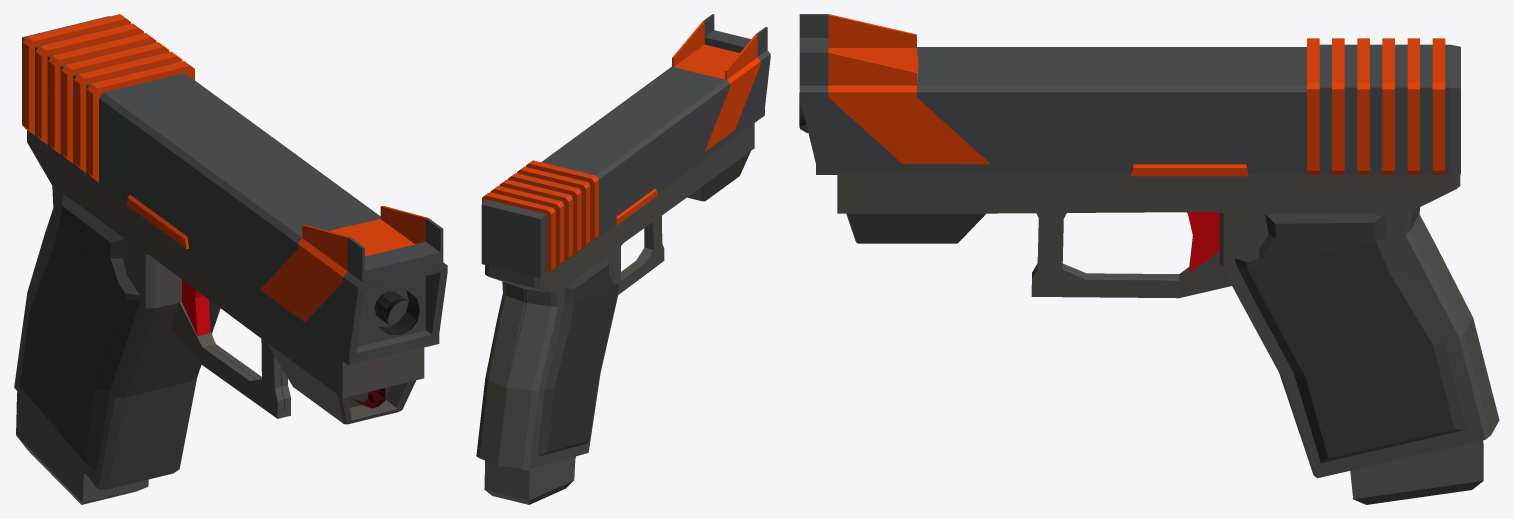
The model's file is gun.fbx.
The picture shows the model from 3 angles, left to right: view 1: azimuth 30°, elevation 25°; view 2: azimuth 150°, elevation 25°; view 3: azimuth 270°, elevation 25°; orthographic projection. The views are drawn at different scales.
Parts seen in each view (by area): view 1: Object_7; view 2: Object_7; view 3: Object_7.
Part boxes in pixels (bbox=[...]): Object_7: bbox=[14, 14, 447, 504]; Object_7: bbox=[476, 14, 770, 504]; Object_7: bbox=[799, 14, 1499, 504].
Bounding box in the file's own units: 0.0885 × 0.3895 × 0.5361.
